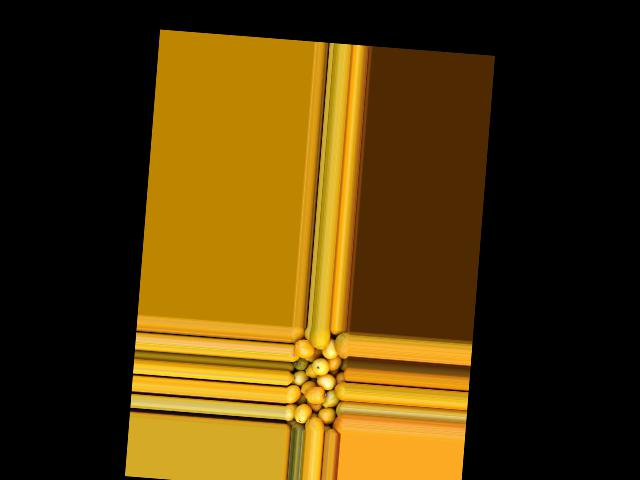lemon: (286, 382, 302, 405)
